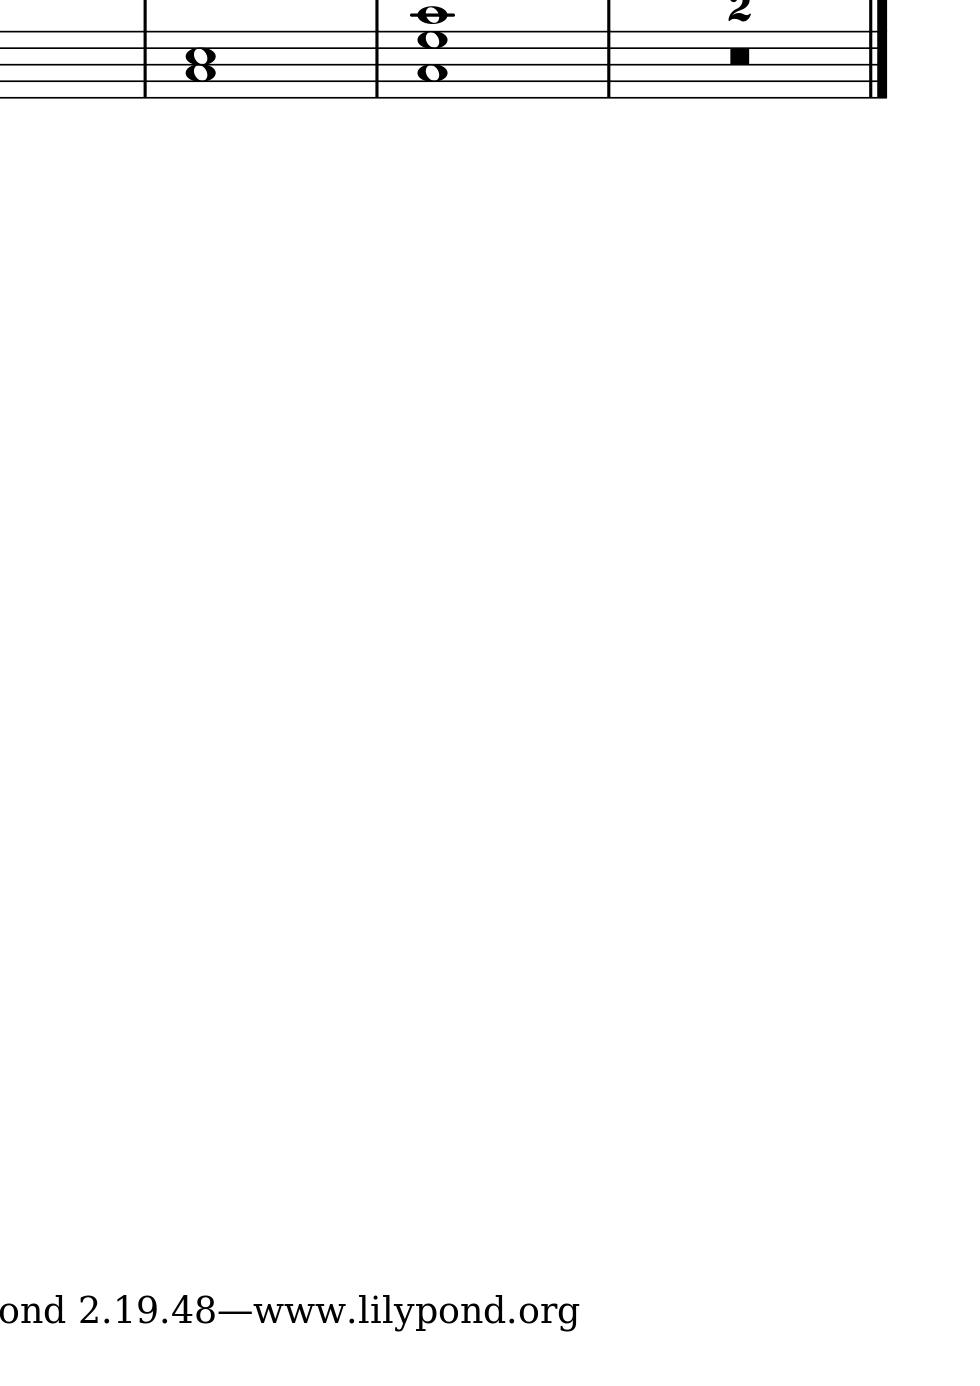1_3_5: (183, 28, 218, 102)
1_3_7: (414, 30, 449, 102)
1_th: (409, 3, 454, 99)
Final_barline: (860, 31, 890, 99)
Single_barline: (367, 31, 386, 99), (599, 31, 618, 99), (136, 31, 154, 99)
